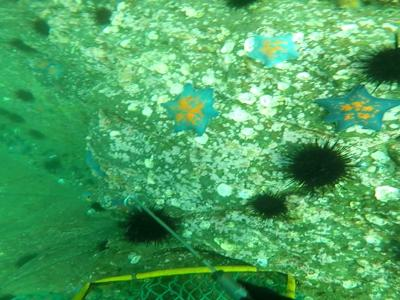urchin: (280, 137, 352, 196), (122, 209, 182, 245), (366, 42, 396, 93), (249, 191, 292, 221)
